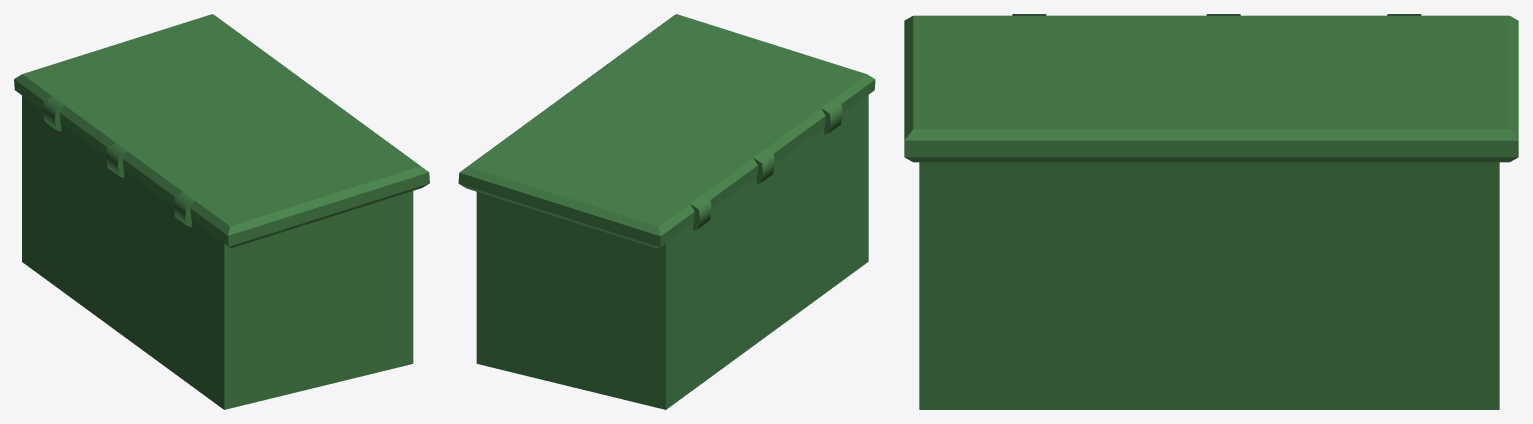
File: ItemBox_open.fbx
The picture shows the model from 3 angles, left to right: view 1: azimuth 30°, elevation 25°; view 2: azimuth 150°, elevation 25°; view 3: azimuth 270°, elevation 25°; orthographic projection. The views are drawn at different scales.
Visible parts, largest first — view 1: pCube74, polySurface549; view 2: pCube74, polySurface549; view 3: pCube74, polySurface549.
Part boxes in pixels (<box>): pCube74: <box>22,95,413,409</box>; polySurface549: <box>14,14,429,248</box>; pCube74: <box>476,95,868,409</box>; polySurface549: <box>458,14,875,248</box>; pCube74: <box>919,162,1499,409</box>; polySurface549: <box>904,14,1518,162</box>.
Bounding box in the file's own units: 2.31 × 2.12 × 4.15.
